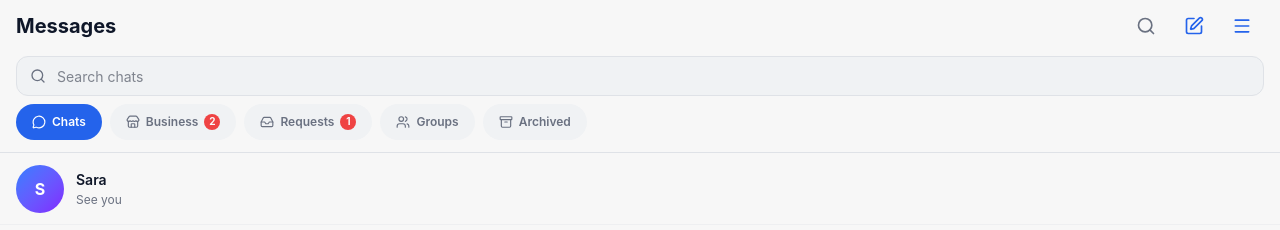
it: inbox › opens on Chats and shows Business and Requests from their own lists
Expected: the text "Sara" is shown, [76,170,107,190]
Click the tab "Business 2". click: [173, 122]
box: [110,104,236,140]
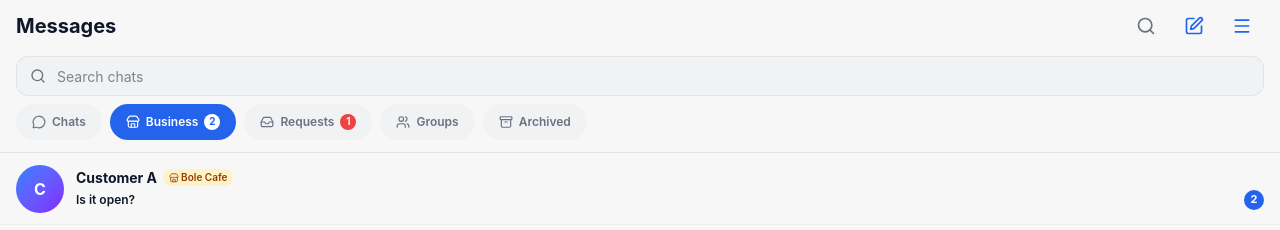
Result: the text "Customer A" is shown at [76,168,157,188]
Result: the link "Sara" is gone
Click the tab "Requests 1". click: [308, 122]
box: [244,104,372,140]
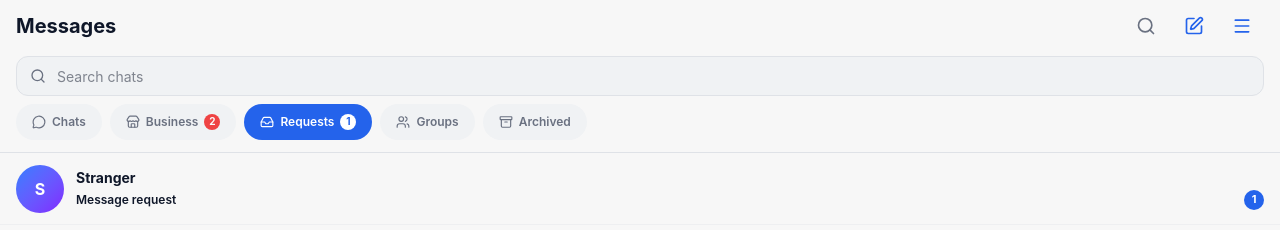
Result: the text "Stranger" is shown at [76,168,136,188]
